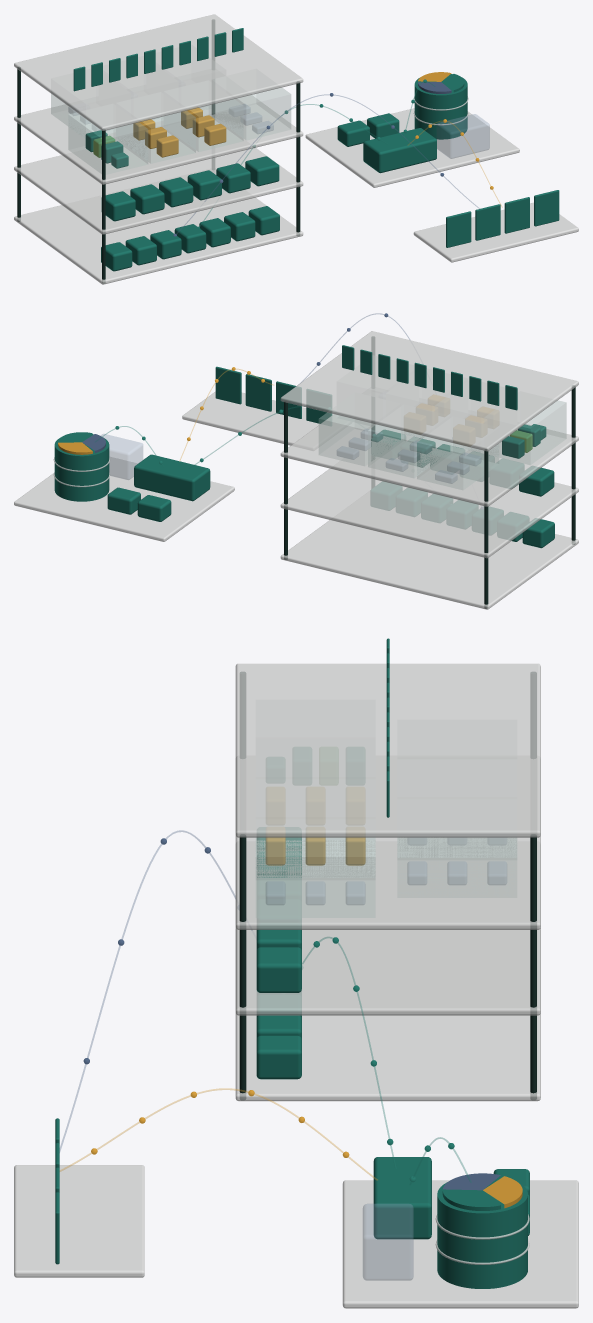
The model's file is thelivu-architecture.glb.
The picture shows the model from 3 angles, top to bottom: view 1: azimuth 30°, elevation 25°; view 2: azimuth 150°, elevation 25°; view 3: azimuth 270°, elevation 25°; orthographic projection. The views are drawn at different scales.
Visible parts, largest first — view 1: Floor roof, Floor core, Floor sdk, Floor rooms, Cloud base, Room 1 · Speed of processing, Portal base, Room 3 · Working memory, Room 2 · Attention, Room 4 · Verbal learning, PostgreSQL + row-level security, Go API (+25 smaller); view 2: Floor roof, Floor core, Floor sdk, Floor rooms, Cloud base, Portal base, Room 5 · Visual learning, PostgreSQL + row-level security, Room 6 · Reasoning, Room 1 · Speed of processing, Go API, Thelivu architecture (+18 smaller); view 3: Floor roof, Floor core, Floor sdk, Floor rooms, Cloud base, Portal base, Room 4 · Verbal learning, PostgreSQL + row-level security, Room 7 · Social cognition (real faces), Thelivu architecture, Go API, Research warehouse (+9 smaller).
Part boxes in pixels (x1,y1,x2,y2): Floor roof: [14, 14, 303, 130]; Floor core: [14, 169, 303, 284]; Floor sdk: [14, 140, 303, 234]; Floor rooms: [14, 95, 303, 184]; Cloud base: [305, 108, 519, 187]; Room 1 · Speed of processing: [68, 112, 147, 174]; Portal base: [413, 202, 578, 262]; Room 3 · Working memory: [164, 99, 243, 151]; Room 2 · Attention: [116, 111, 195, 163]; Room 4 · Verbal learning: [212, 87, 290, 140]; PostgreSQL + row-level security: [414, 74, 467, 139]; Go API: [363, 128, 436, 173]; Floor roof: [280, 331, 578, 451]; Floor core: [280, 491, 578, 609]; Floor sdk: [280, 461, 578, 558]; Floor rooms: [280, 414, 578, 506]; Cloud base: [14, 457, 234, 541]; Portal base: [182, 391, 319, 450]; Room 5 · Visual learning: [417, 436, 498, 489]; PostgreSQL + row-level security: [54, 434, 109, 501]; Room 6 · Reasoning: [368, 424, 449, 477]; Room 1 · Speed of processing: [489, 400, 566, 464]; Go API: [134, 454, 210, 501]; Thelivu architecture: [53, 337, 575, 608]; Floor roof: [235, 663, 540, 837]; Floor core: [235, 929, 540, 1101]; Floor sdk: [235, 842, 540, 1015]; Floor rooms: [235, 756, 540, 929]; Cloud base: [342, 1180, 578, 1308]; Portal base: [14, 1165, 144, 1277]; Room 4 · Verbal learning: [256, 837, 375, 917]; PostgreSQL + row-level security: [437, 1176, 527, 1288]; Room 7 · Social cognition (real faces): [397, 837, 516, 897]; Thelivu architecture: [239, 672, 536, 1264]; Go API: [373, 1157, 431, 1239]; Research warehouse: [363, 1204, 413, 1280].
Size of what is drawn, in the model's own units: 24.5 by 9.37 by 15.55.
